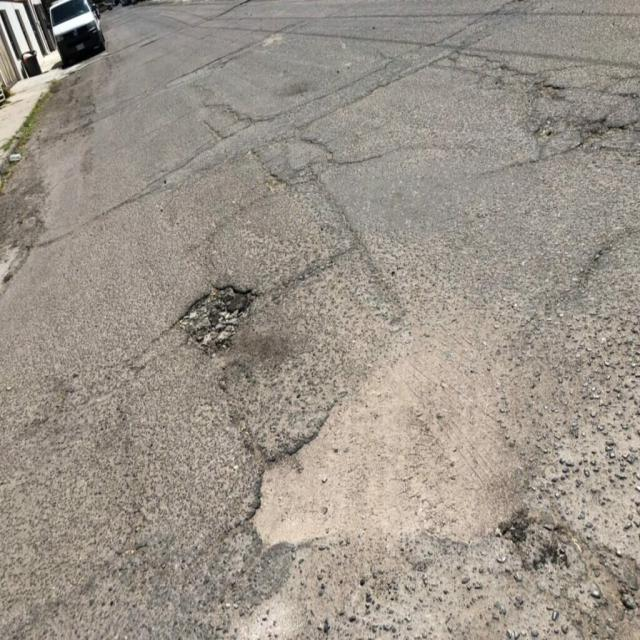Pothole: (241, 359, 446, 612), (490, 60, 640, 195), (169, 265, 299, 386)
